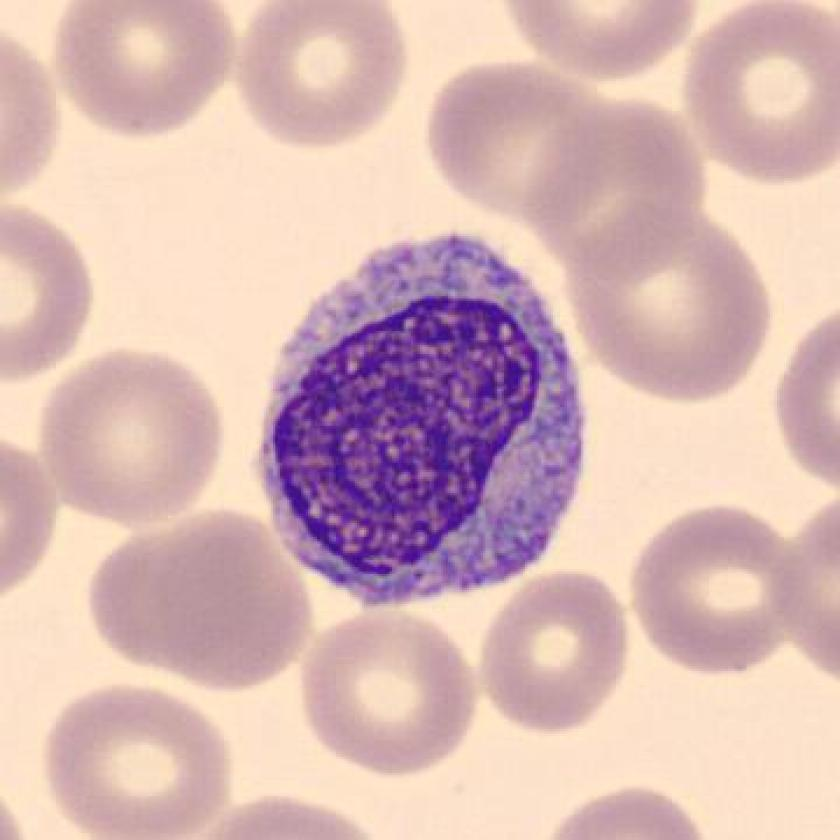monocyte: (241, 223, 603, 619)
